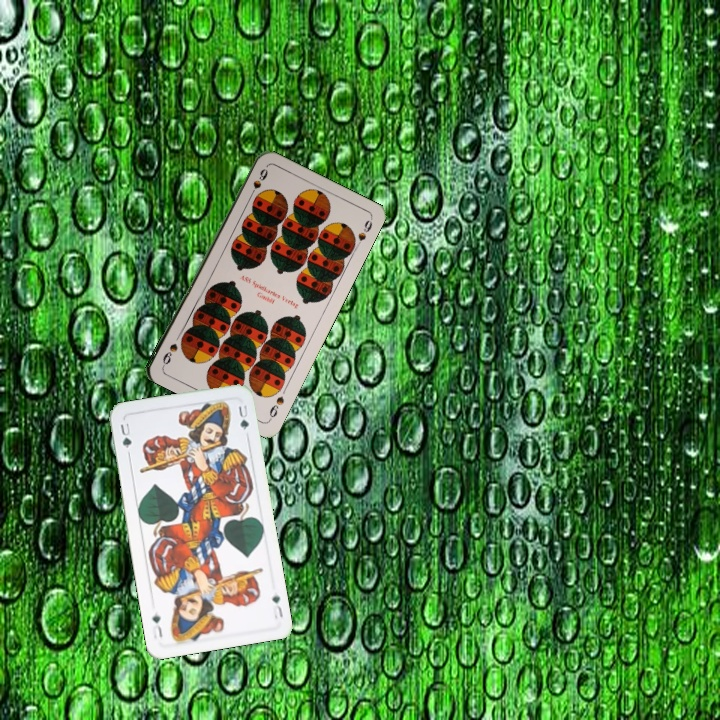GU: (116, 419, 134, 451), (268, 590, 285, 621)
S9: (245, 164, 269, 202), (265, 392, 287, 422)
